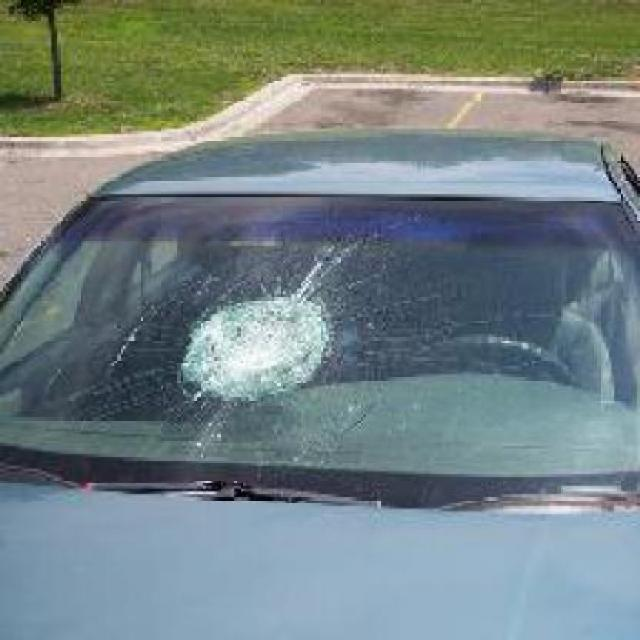damaged-windscreen: (0, 188, 637, 506)
